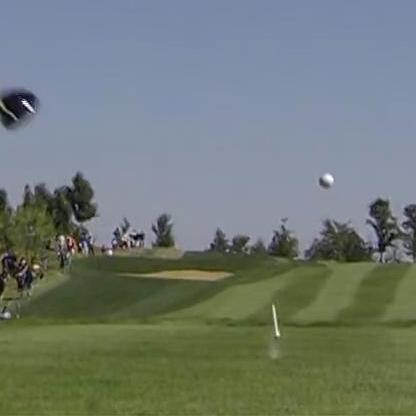golfball: (316, 169, 332, 188)
